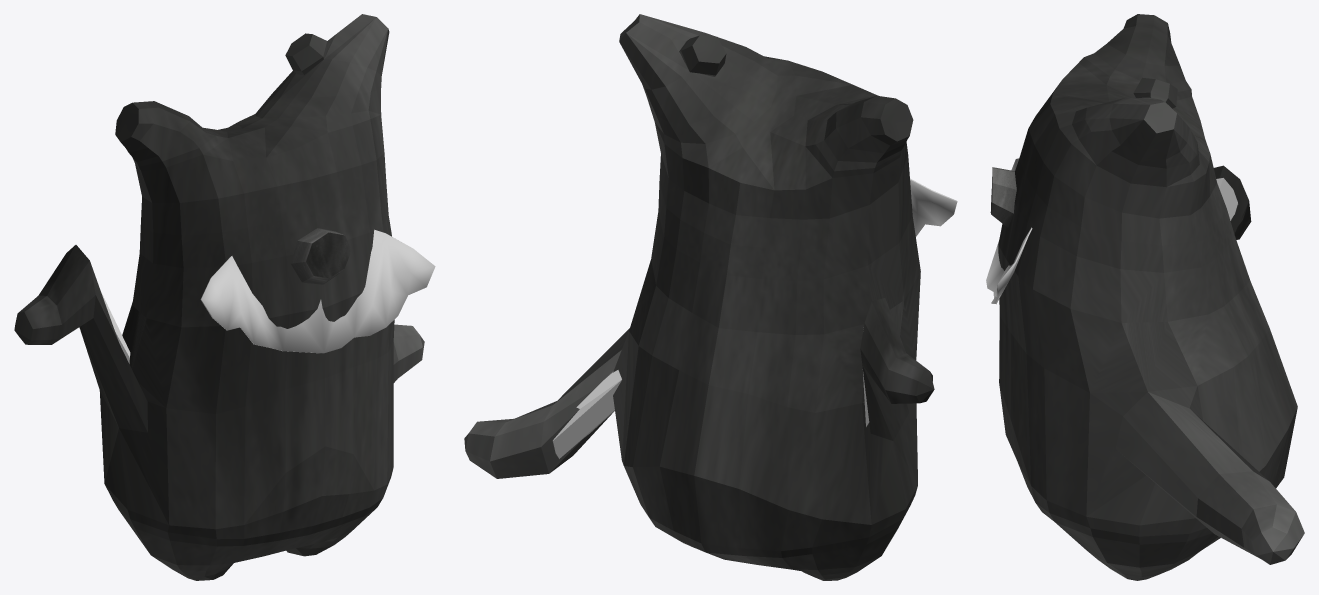
Rendered from frame_0055.obj.
The picture shows the model from 3 angles, left to right: view 1: azimuth 30°, elevation 25°; view 2: azimuth 150°, elevation 25°; view 3: azimuth 270°, elevation 25°; orthographic projection. The views are drawn at different scales.
Parts seen in each view (by area): view 1: korok, leaf, nose; view 2: korok, leaf; view 3: korok, nose, leaf.
Part boxes in pixels (<box>): korok: <box>14,14,424,580</box>; leaf: <box>200,229,435,353</box>; nose: <box>290,228,351,284</box>; korok: <box>464,14,934,580</box>; leaf: <box>910,178,957,236</box>; korok: <box>998,14,1304,580</box>; nose: <box>990,167,1016,227</box>; leaf: <box>986,158,1032,304</box>.
Size of the model in its own units: 1.96 by 2.21 by 1.25.
